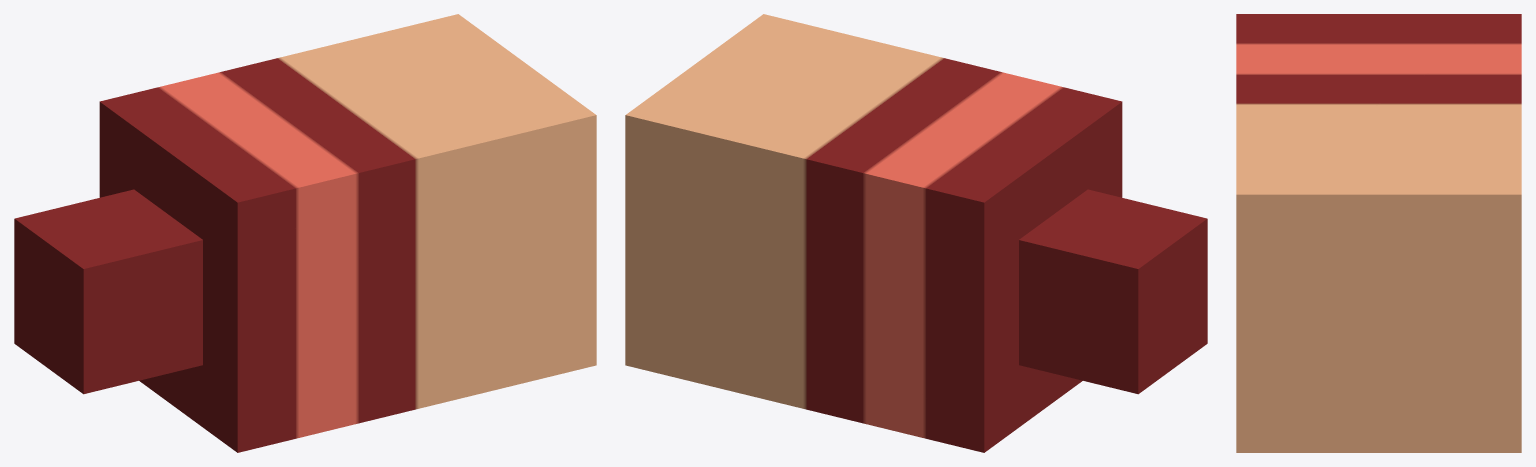
Rendered from Shoulder031.fbx.
The picture shows the model from 3 angles, left to right: view 1: azimuth 30°, elevation 25°; view 2: azimuth 150°, elevation 25°; view 3: azimuth 270°, elevation 25°; orthographic projection. The views are drawn at different scales.
Visible parts, largest first — view 1: Shoulder031; view 2: Shoulder031; view 3: Shoulder031.
Part boxes in pixels (left/top/right/bottom): Shoulder031: left=14, top=14, right=596, bottom=452; Shoulder031: left=625, top=14, right=1207, bottom=452; Shoulder031: left=1236, top=14, right=1521, bottom=452.
Size of the model in its own units: 8 by 4 by 4.
